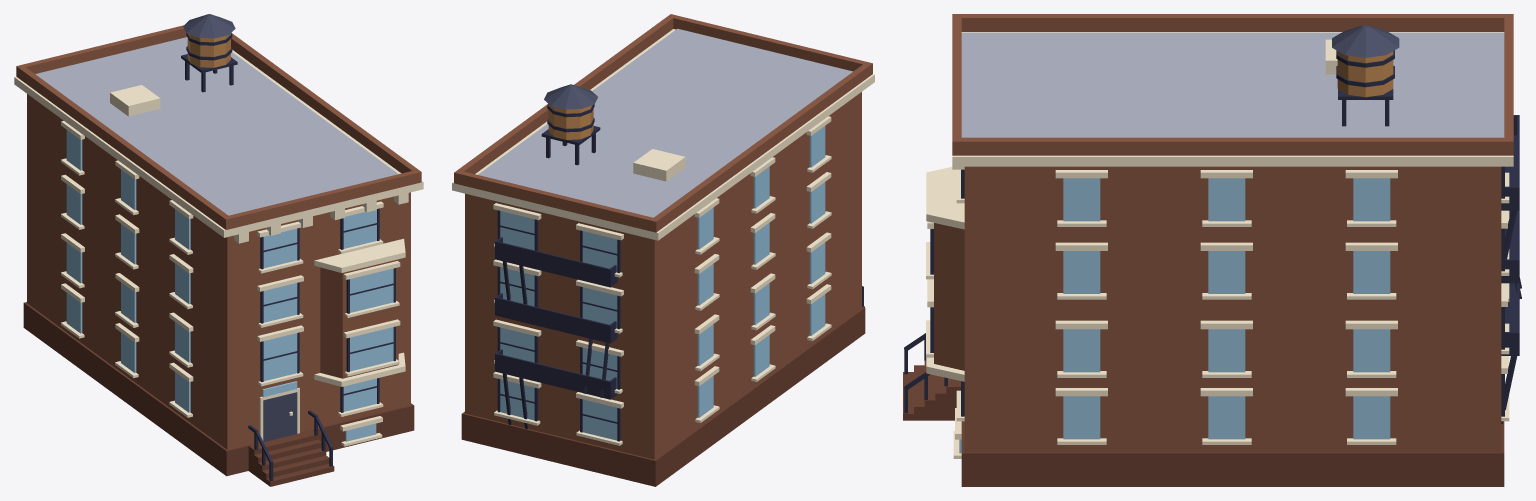
The model's file is house-1x2-4f-brownstone-a.glb.
3 views of the same model, side by side, from view 1: azimuth 30°, elevation 25°; view 2: azimuth 150°, elevation 25°; view 3: azimuth 270°, elevation 25° (orthographic). The views are drawn at different scales.
Parts seen in each view (by area): view 1: house-1x2-4f-brownstone-a; view 2: house-1x2-4f-brownstone-a; view 3: house-1x2-4f-brownstone-a.
Part boxes in pixels (box(x1,y1,x2,y2)): house-1x2-4f-brownstone-a: box(14, 14, 423, 486); house-1x2-4f-brownstone-a: box(452, 14, 874, 486); house-1x2-4f-brownstone-a: box(903, 14, 1521, 486).
Bounding box in the file's own units: 1 × 1.52 × 2.01.
Materials: 1 (1 with a texture image).
